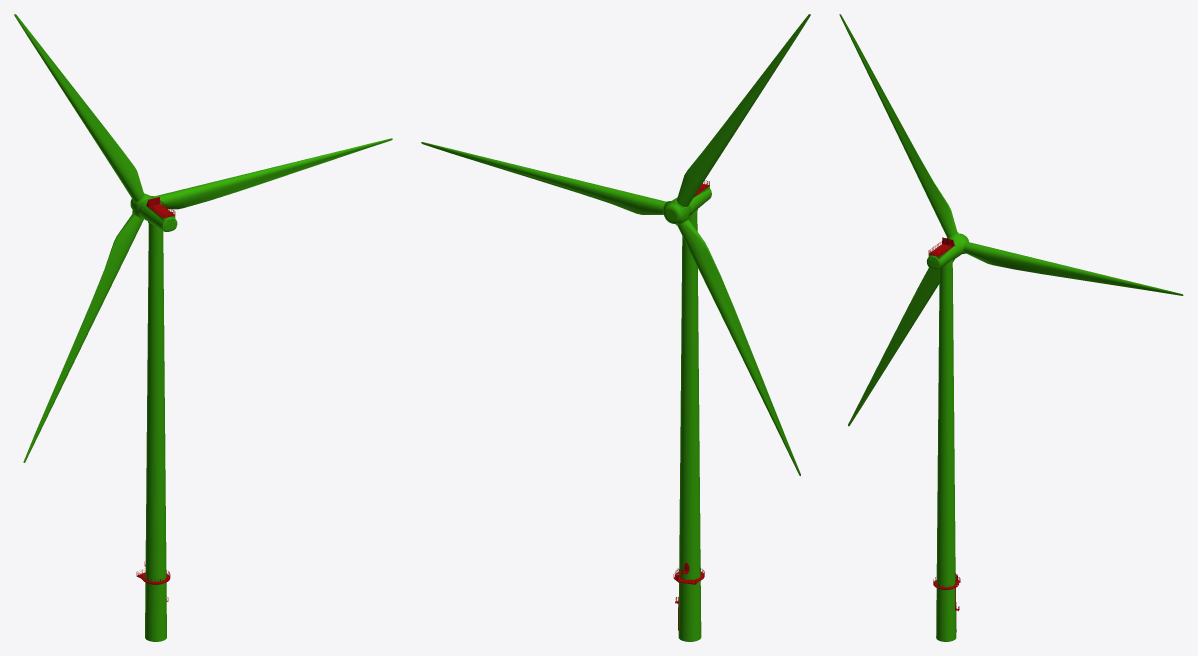
File: offshore_wind_turbine_GEO.fbx
3 renders of one model, left to right at view 1: azimuth 30°, elevation 25°; view 2: azimuth 150°, elevation 25°; view 3: azimuth 330°, elevation 25°, orthographic. The views are drawn at different scales.
Parts seen in each view (by area): view 1: tower_GEO_001, blade_GEO_003, blade_GEO_001, blade_GEO_002, tower_base_GEO_001, nacelle_GEO_001; view 2: tower_GEO_001, blade_GEO_002, blade_GEO_001, blade_GEO_003, tower_base_GEO_001; view 3: tower_GEO_001, blade_GEO_003, blade_GEO_001, blade_GEO_002, tower_base_GEO_001.
Part boxes in pixels (x1,y1,x2,y2): tower_GEO_001: (145, 221, 166, 585); blade_GEO_003: (154, 138, 392, 209); blade_GEO_001: (14, 14, 144, 201); blade_GEO_002: (23, 214, 143, 462); tower_base_GEO_001: (145, 582, 166, 641); nacelle_GEO_001: (138, 198, 177, 231); tower_GEO_001: (679, 209, 700, 580); blade_GEO_002: (677, 220, 800, 475); blade_GEO_001: (677, 14, 810, 206); blade_GEO_003: (421, 142, 666, 214); tower_base_GEO_001: (678, 581, 701, 641); tower_GEO_001: (936, 260, 955, 590); blade_GEO_003: (964, 242, 1183, 295); blade_GEO_001: (839, 14, 957, 237); blade_GEO_002: (848, 259, 954, 426); tower_base_GEO_001: (936, 588, 956, 641).
Bounding box in the file's own units: 11438 × 18649 × 1703.
